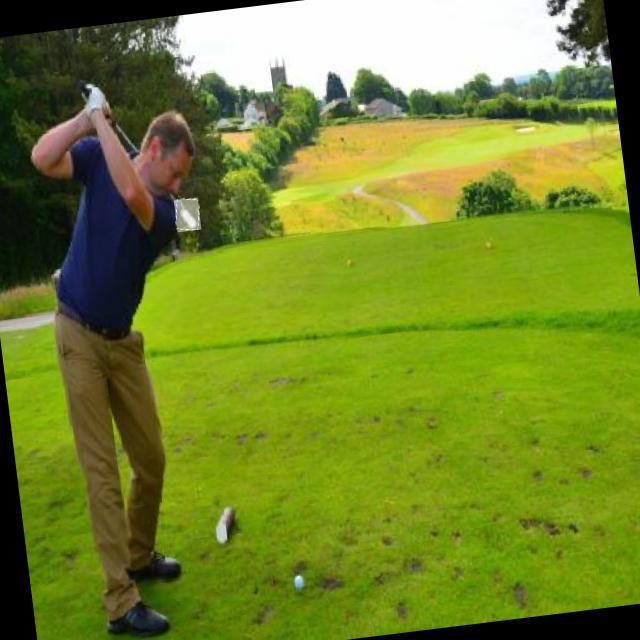club head: (173, 197, 201, 232)
